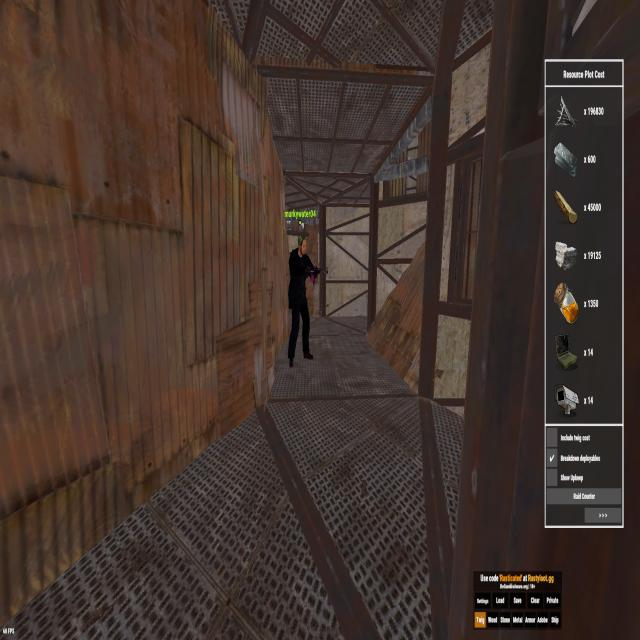Player: (285, 231, 316, 371)
